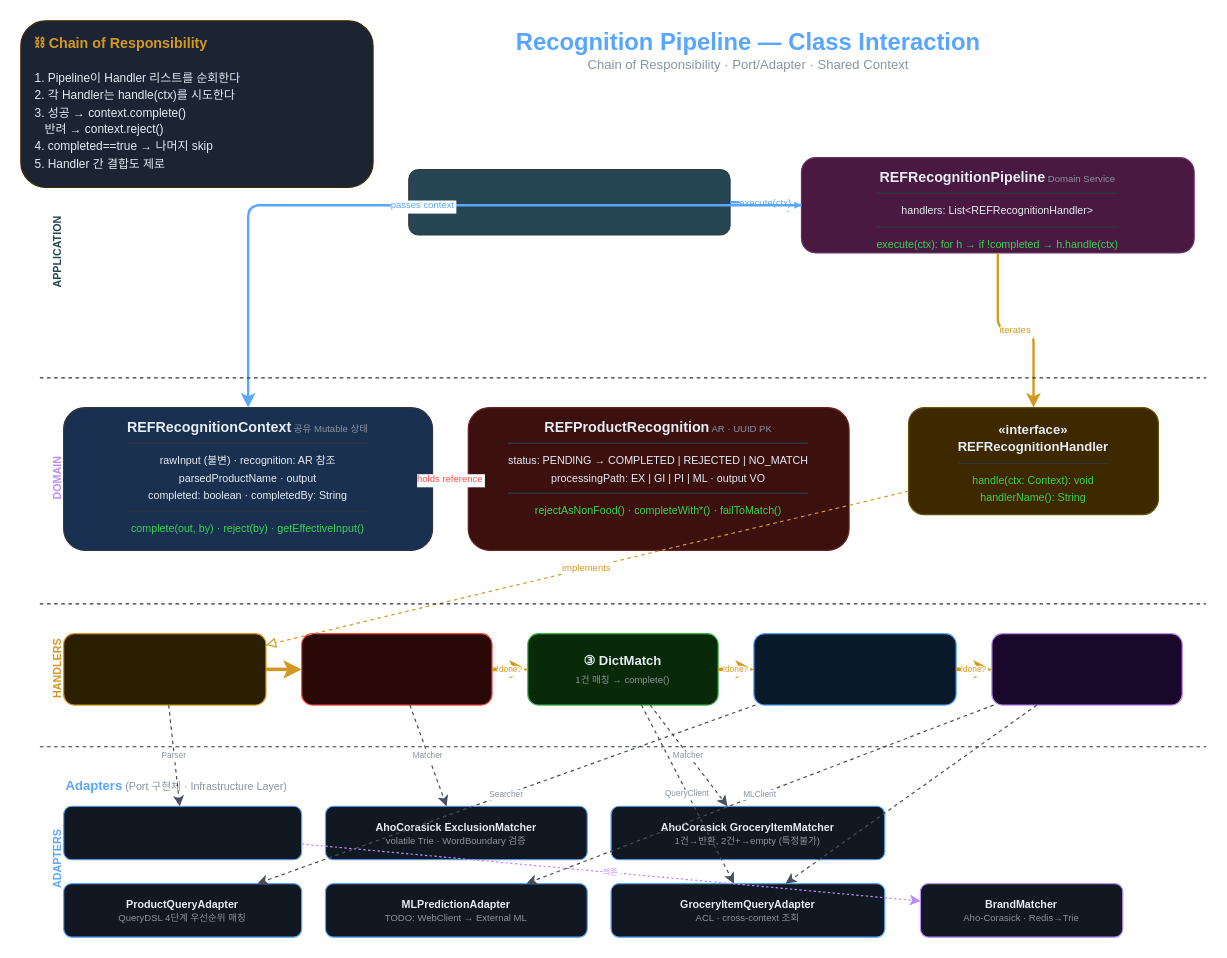
Some shapes in this 1227 by 958 pixel diagram are drawn without their labels. Here are the shapes that lost their labels. From the top down, the centre of each, then its label:
(x=569, y=201): ProductRecognitionAppService recognize(command) → ResultResponse
(x=164, y=668): ① NameParsing Brand·Vol·Qty 추출 complete 안함 (항상 통과)
(x=396, y=668): ② ExclusionFilter 비식재료 매칭 → reject()
(x=854, y=668): ④ IndexSearch QueryDSL 4단계 → complete()
(x=1086, y=668): ⑤ MLPrediction 성공→complete() 실패→NO_MATCH
(x=182, y=832): ParserAdapter 40+ Regex + BrandMatcher(Trie)
